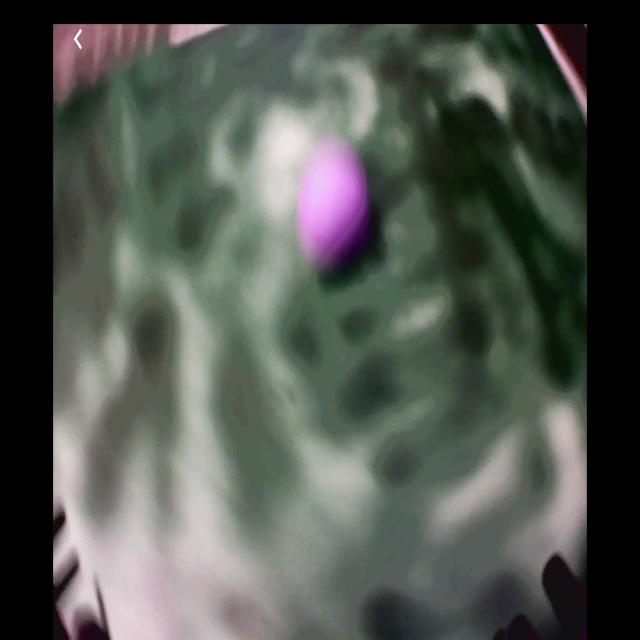ball: (297, 150, 368, 259)
